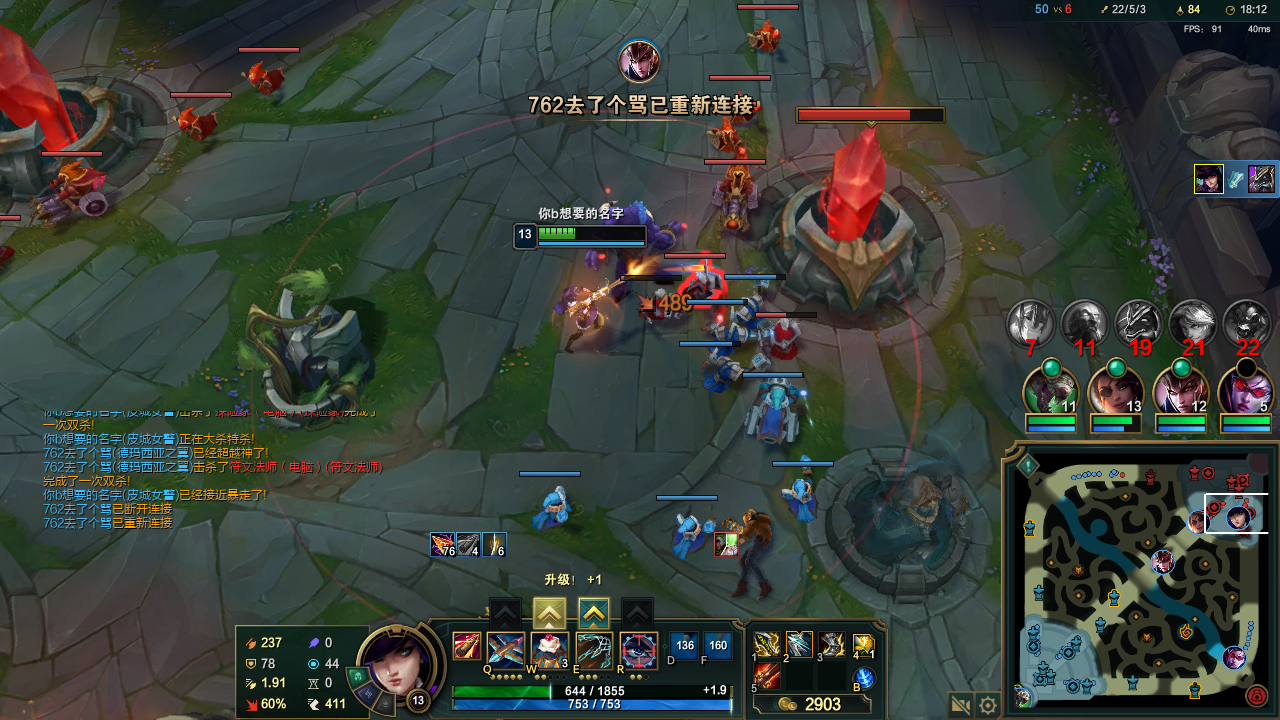DFSJ: (782, 109, 940, 304)
DFXB: (42, 161, 108, 222), (706, 164, 765, 232), (760, 316, 807, 368), (676, 262, 723, 304), (241, 59, 287, 98), (166, 102, 214, 134), (747, 28, 790, 61), (630, 281, 667, 314), (711, 123, 752, 151)
WFXB: (749, 388, 798, 443), (657, 509, 707, 555), (532, 486, 582, 527), (691, 356, 738, 395), (777, 472, 815, 515), (712, 318, 751, 357), (736, 293, 767, 322)
